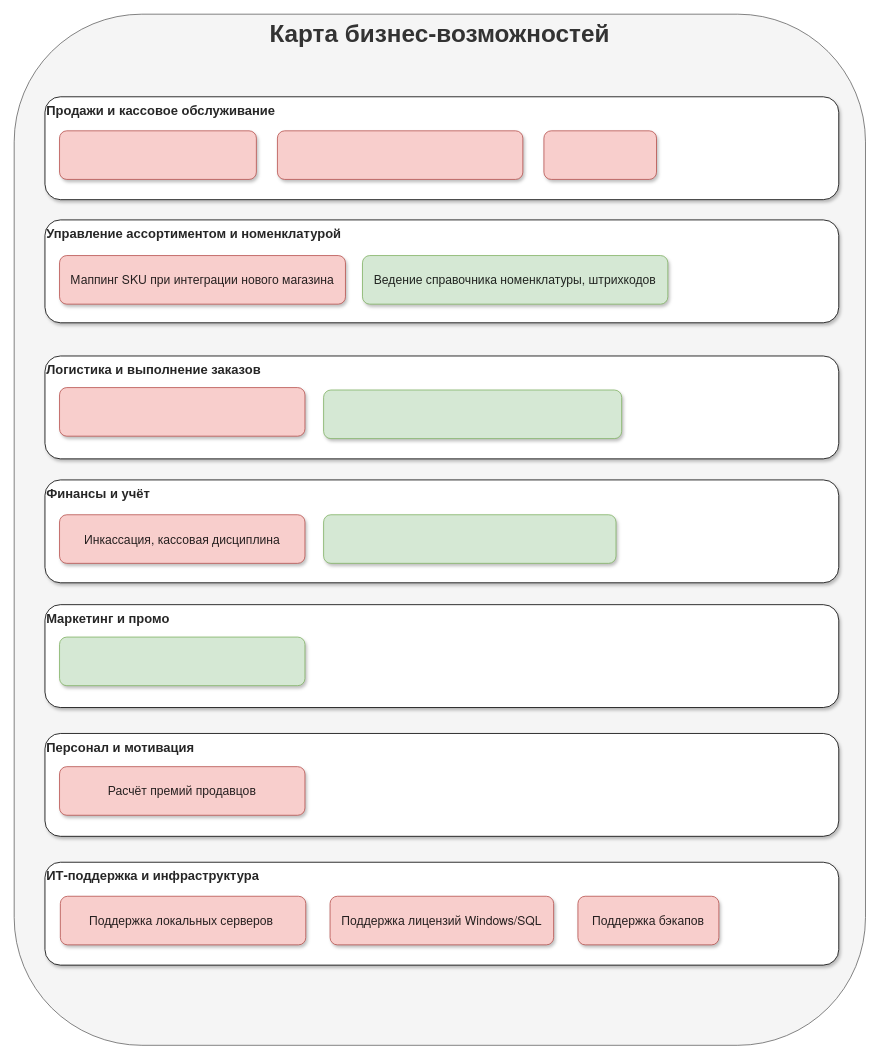
Some shapes in this 880 by 1059 pixel diagram are drawn without their labels. Each missing label, with the centre of its shape:
Омниканальный подбор и доставка (Click & Collect): the point at 473,415
Печать ценников: the point at 600,156
Применение лояльности (баллы, скидки): the point at 400,156
Приём товара от локальных поставщиков: the point at 182,413
Пробитие чеков, фискализация: the point at 158,156
Промоакции, правила скидок, купоны: the point at 182,662
Учёт товаров, себестоимости, закрытие периода: the point at 470,540
